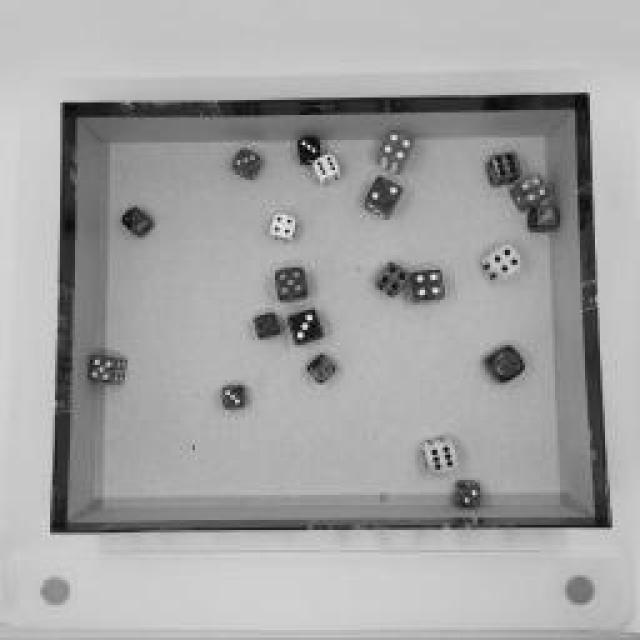dice_2: (363, 172, 405, 222), (485, 345, 530, 385), (118, 205, 158, 240), (450, 478, 485, 512), (529, 206, 561, 236)
dice_3: (286, 306, 329, 346), (232, 149, 266, 181), (296, 134, 324, 161), (220, 384, 248, 411)
dice_4: (479, 241, 526, 289), (371, 128, 419, 170), (508, 171, 554, 214), (374, 260, 411, 300), (409, 268, 446, 308), (304, 352, 338, 388), (268, 210, 302, 245)
dice_5: (273, 265, 315, 303), (85, 354, 127, 386), (251, 311, 284, 341)
dice_6: (418, 434, 464, 476), (485, 150, 525, 190), (310, 150, 345, 190)
